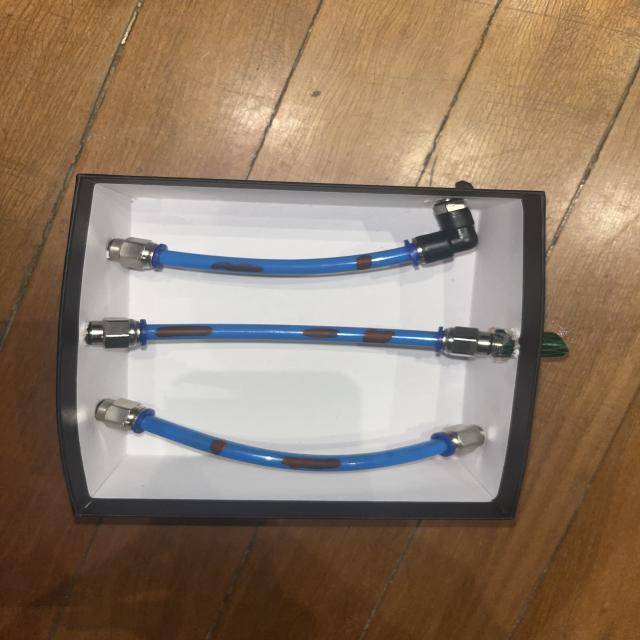hose_damage: (278, 455, 342, 470), (152, 326, 218, 338), (207, 261, 265, 274), (361, 328, 396, 344), (299, 327, 339, 340), (209, 438, 226, 456), (354, 255, 374, 270)
